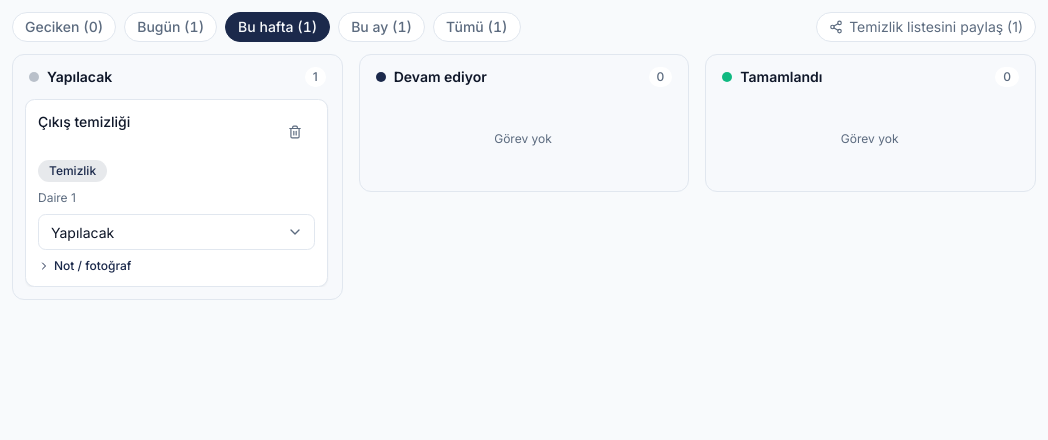
Test: TaskBoard — not kaydı görünür ve etiketli › kayıt DURUMU ekranda: Kaydediliyor… → Kaydedildi; yazmaya başlayınca kalkar
Click the button "Not / fotoğraf" at (85, 266), box [38, 252, 131, 280]
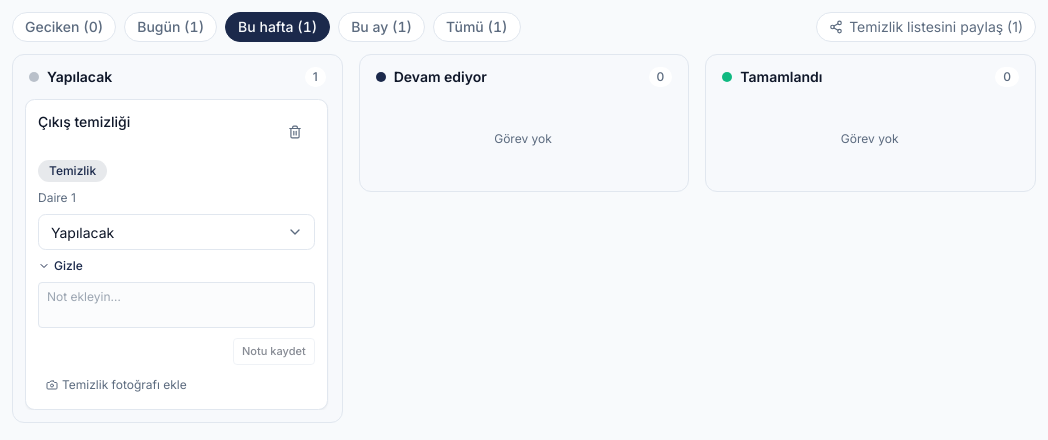
Type "Not" into the text box named "Görev notu" at (176, 305), box [38, 282, 315, 328]
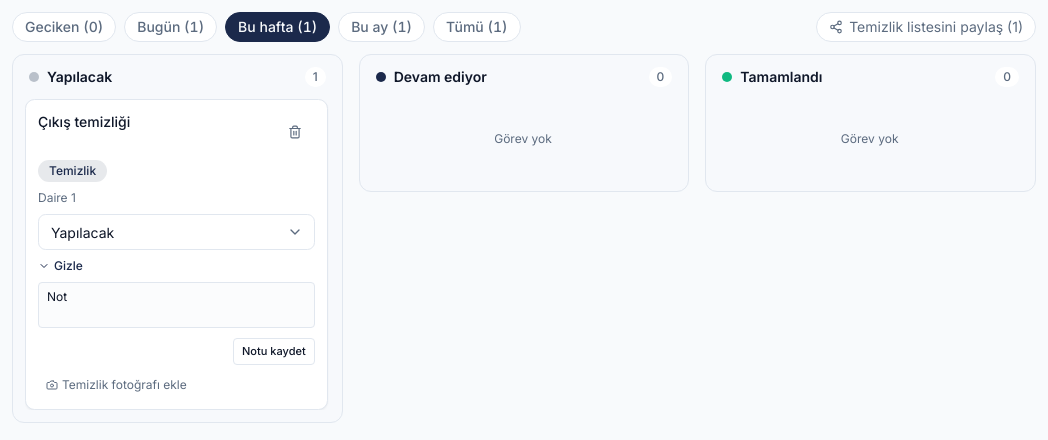
Click the button "Notu kaydet" at (274, 351), box [233, 338, 315, 364]
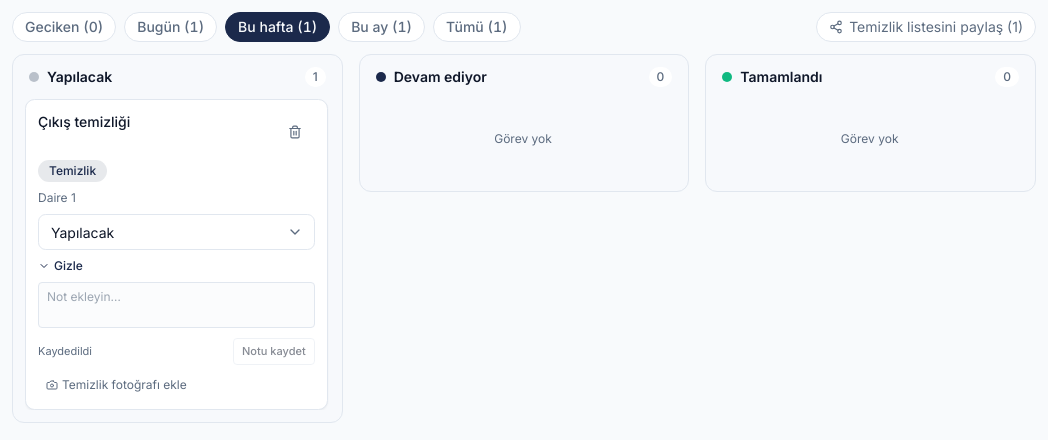
Result: the text "Kaydedildi" is shown at [38, 343, 92, 360]
Type "Yeni" into the text box named "Görev notu" at (176, 305), box [38, 282, 315, 328]
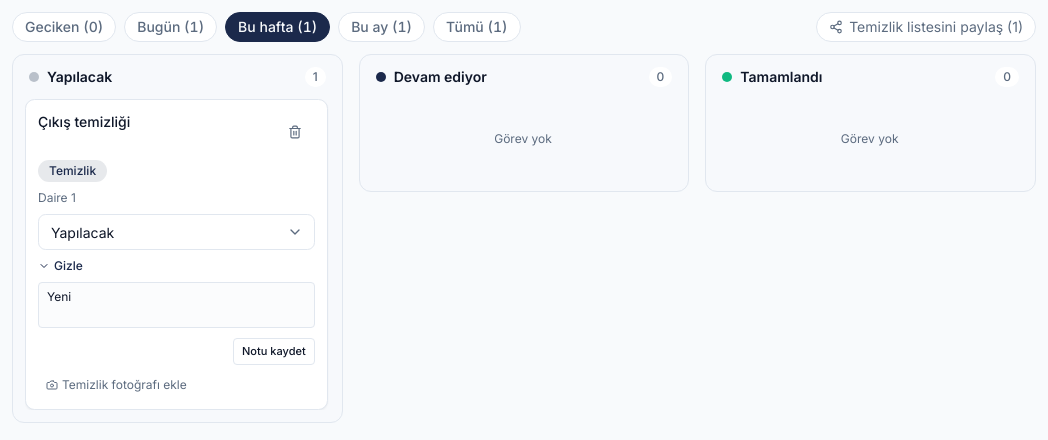
Result: the text "Kaydedildi" is gone
